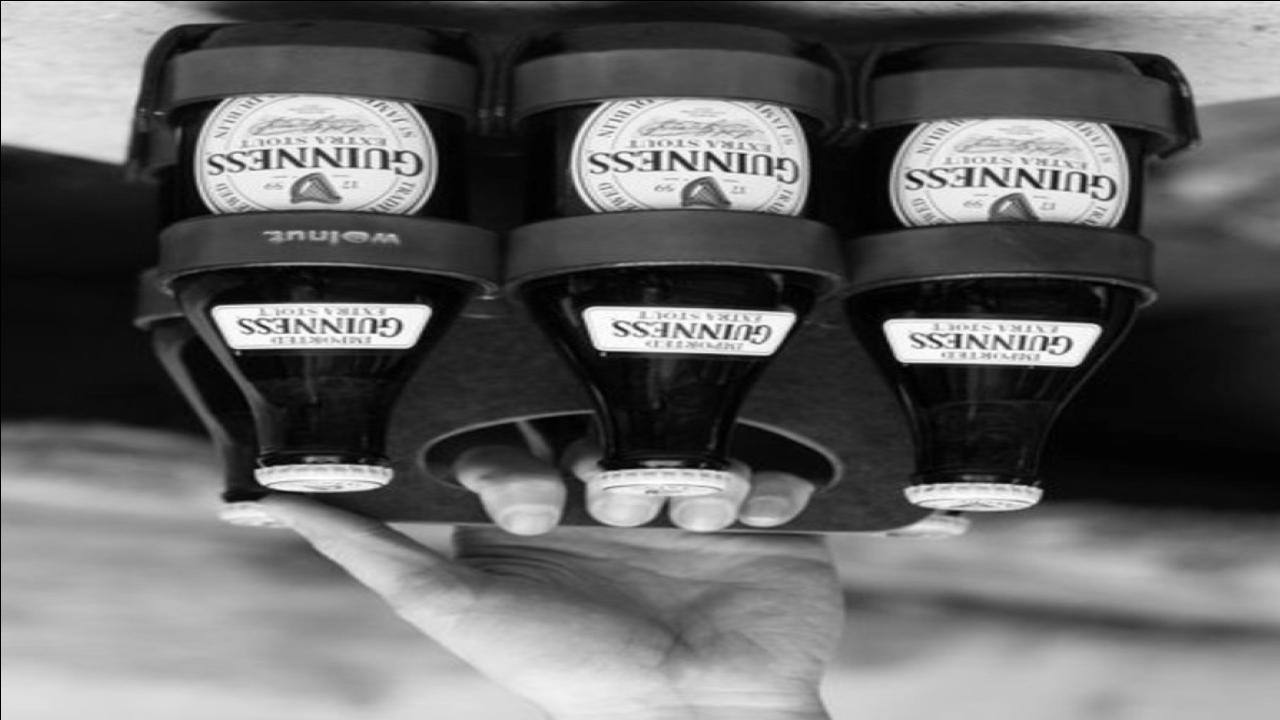bottle_cap: (249, 457, 399, 493), (896, 476, 1038, 511), (584, 467, 734, 495)
